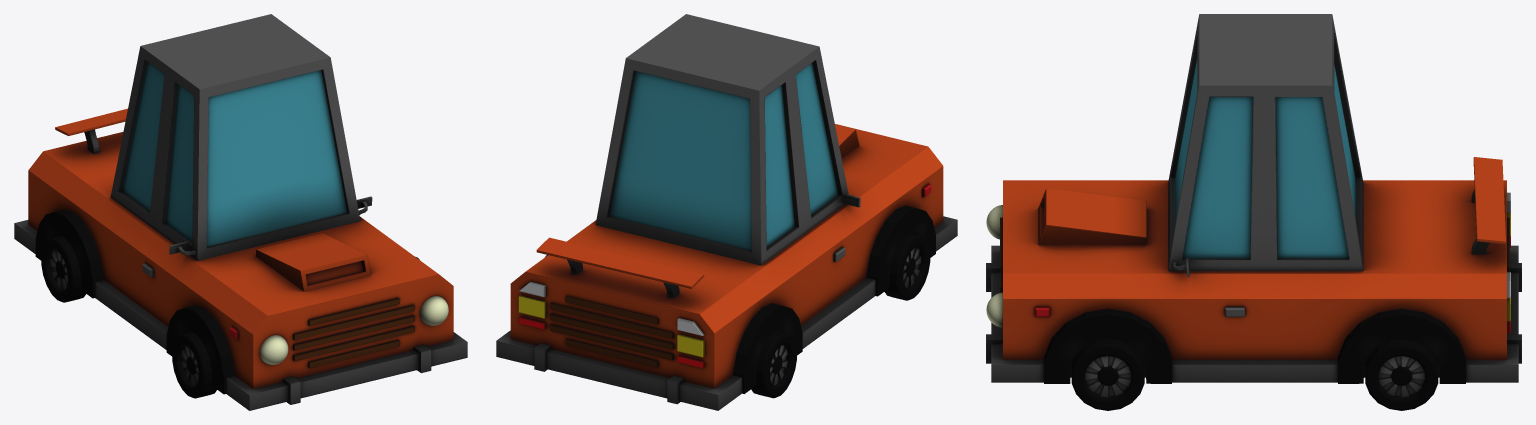
The model's file is Car1.fbx.
The picture shows the model from 3 angles, left to right: view 1: azimuth 30°, elevation 25°; view 2: azimuth 150°, elevation 25°; view 3: azimuth 270°, elevation 25°; orthographic projection. The views are drawn at different scales.
Parts seen in each view (by area): view 1: Car1, Bwheels right, Fwheels right; view 2: Car1, Fwheels right, Bwheels right; view 3: Car1, Fwheels Left, Bwheels Left.
Part boxes in pixels (<box>): Car1: <box>14,14,467,410</box>; Bwheels right: <box>41,236,85,302</box>; Fwheels right: <box>172,332,216,398</box>; Car1: <box>496,14,957,410</box>; Fwheels right: <box>884,233,930,300</box>; Bwheels right: <box>751,330,796,398</box>; Car1: <box>986,14,1521,383</box>; Fwheels Left: <box>1071,339,1144,410</box>; Bwheels Left: <box>1365,339,1438,410</box>.
Size of the model in its own units: 216 by 230 by 376.
Materials: 5 (5 with a texture image).
